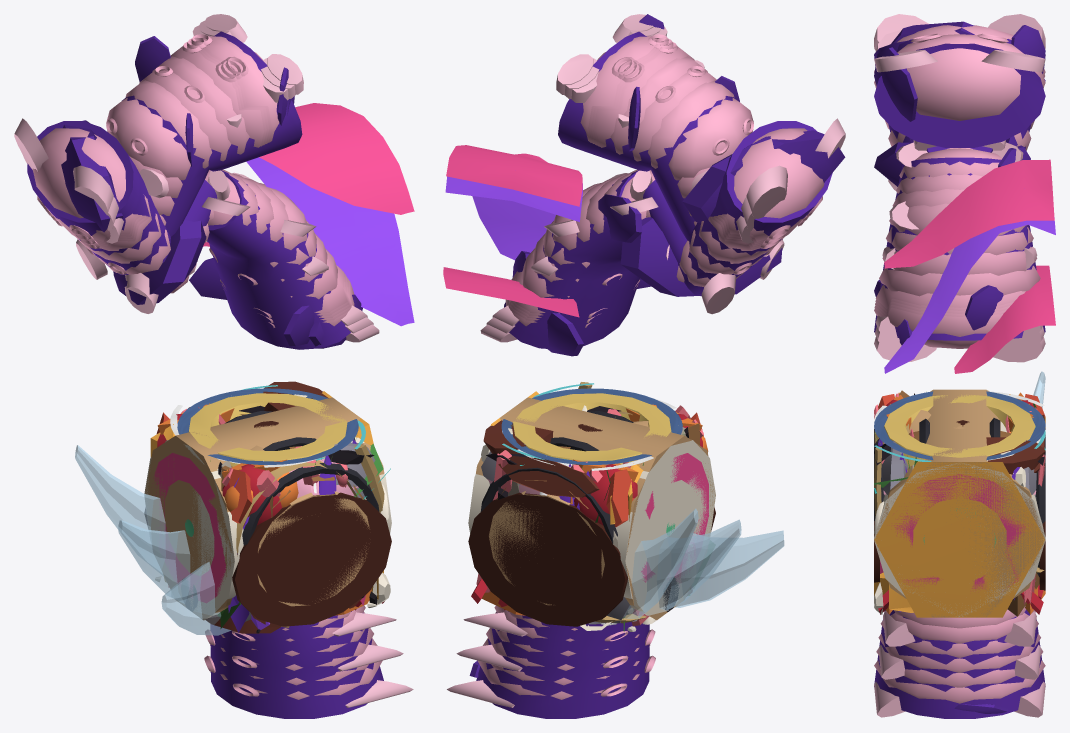
Rendered from traversee-v4.glb.
3 renders of one model, left to right at view 1: azimuth 30°, elevation 25°; view 2: azimuth 150°, elevation 25°; view 3: azimuth 270°, elevation 25°, orthographic. The views are drawn at different scales.
Visible parts, largest first — view 1: tentacule_s3, tentacule_s4, tonneau_flotte, tentacule_s2, jumeaux_drapeau, tentacule_s1, bouteille_flotte, bourrasque_souffle, aiguille_corps, bourrasque_corps, jumeaux_corps, tourbillon_corps (+1 smaller); view 2: tentacule_s4, tentacule_s3, tonneau_flotte, tentacule_s2, tentacule_s1, bouteille_flotte, jumeaux_drapeau, bourrasque_souffle, aiguille_corps, jumeaux_corps, bourrasque_corps, tourbillon_corps (+1 smaller); view 3: aiguille_corps, tentacule_s2, tentacule_s3, tentacule_s1, jumeaux_drapeau, bouteille_flotte, tentacule_s4, bourrasque_corps, tonneau_flotte, jumeaux_corps, tourbillon_corps, tourbillon_remous (+1 smaller).
Part boxes in pixels (<box>): tentacule_s3: <box>106,14,303,236</box>; tentacule_s4: <box>14,118,230,313</box>; tonneau_flotte: <box>144,403,391,628</box>; tentacule_s2: <box>189,169,379,349</box>; jumeaux_drapeau: <box>203,103,414,326</box>; tentacule_s1: <box>204,605,413,718</box>; bouteille_flotte: <box>144,397,391,620</box>; bourrasque_souffle: <box>75,445,231,635</box>; aiguille_corps: <box>155,391,384,633</box>; bourrasque_corps: <box>151,405,374,611</box>; jumeaux_corps: <box>164,381,390,633</box>; tourbillon_corps: <box>177,388,358,493</box>; tentacule_s4: <box>620,118,845,314</box>; tentacule_s3: <box>556,14,753,241</box>; tonneau_flotte: <box>468,411,715,626</box>; tentacule_s2: <box>480,169,658,356</box>; tentacule_s1: <box>447,605,655,718</box>; bouteille_flotte: <box>468,397,715,620</box>; jumeaux_drapeau: <box>443,145,582,317</box>; bourrasque_souffle: <box>624,508,784,621</box>; aiguille_corps: <box>471,391,703,631</box>; jumeaux_corps: <box>481,382,691,631</box>; bourrasque_corps: <box>486,406,708,611</box>; tourbillon_corps: <box>501,388,682,464</box>; aiguille_corps: <box>874,391,1045,617</box>; tentacule_s2: <box>874,142,1045,362</box>; tentacule_s3: <box>874,25,1045,147</box>; tentacule_s1: <box>874,606,1045,718</box>; jumeaux_drapeau: <box>884,159,1055,373</box>; bouteille_flotte: <box>874,389,1045,617</box>; tentacule_s4: <box>874,14,1045,190</box>; bourrasque_corps: <box>874,443,1045,590</box>; tonneau_flotte: <box>874,417,1045,590</box>; jumeaux_corps: <box>874,393,1045,614</box>; tourbillon_corps: <box>874,391,1045,460</box>; tourbillon_remous: <box>874,390,1045,616</box>.
Bounding box in the file's own units: 4.3 × 7.95 × 2.12.
